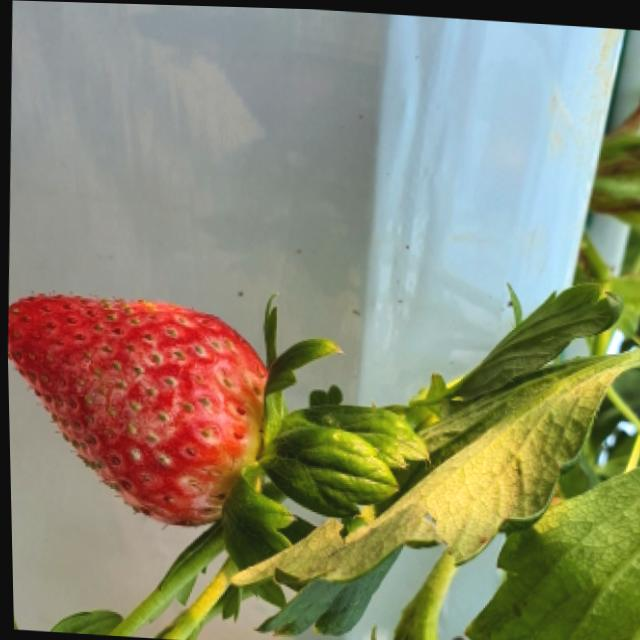Powdery Mildew Fruit: (5, 289, 266, 527)
